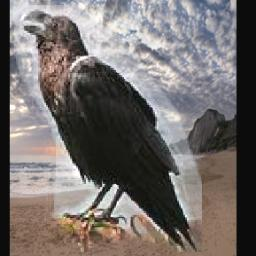Crow: (14, 5, 202, 252)
